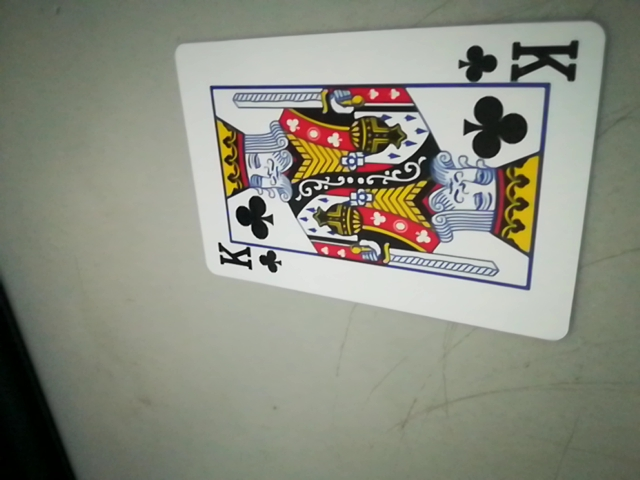mh k: (461, 35, 580, 87), (211, 240, 282, 280)
